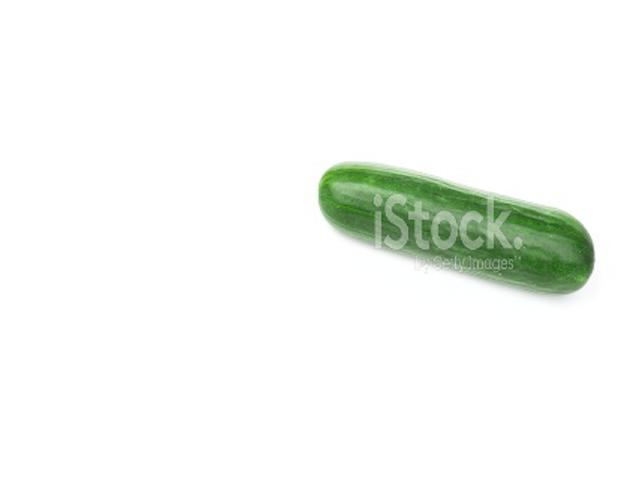cucumber: (317, 163, 596, 293)
